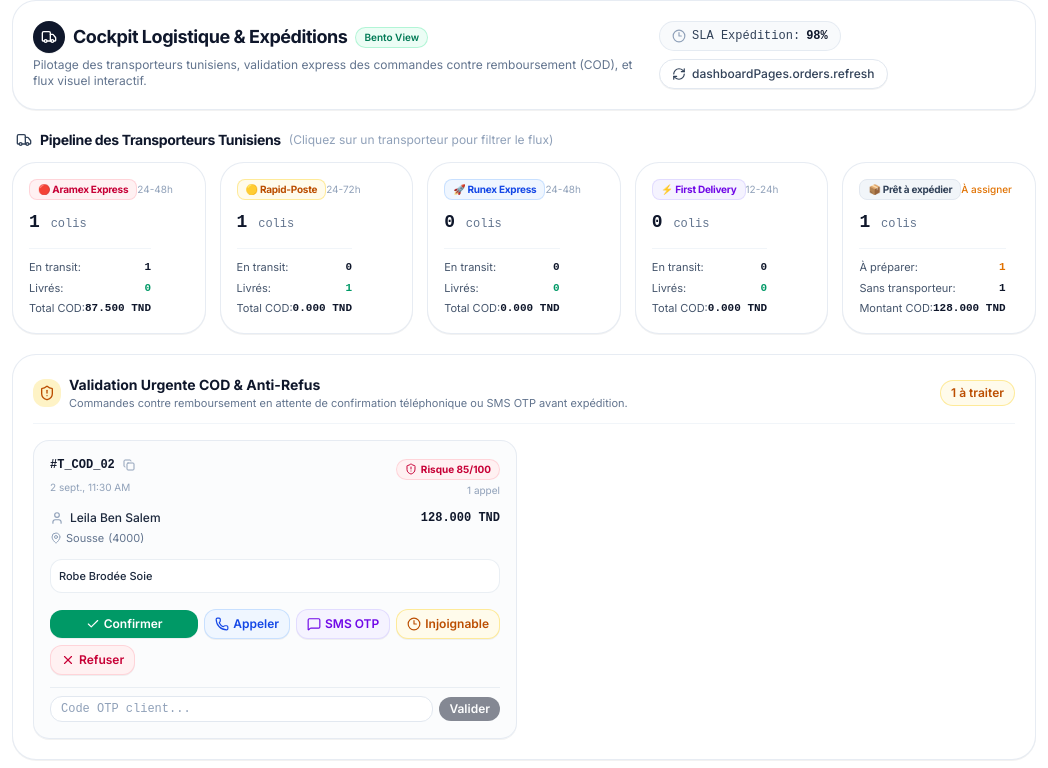
Test: OrdersBentoCockpit Component › filters the visual order stream when a courier card is clicked
This screenshot has width=1048, height=768.
Click on Aramex card
Click the button "Aramex Express": click(109, 248) [12, 162, 206, 334]
(page scrolled)
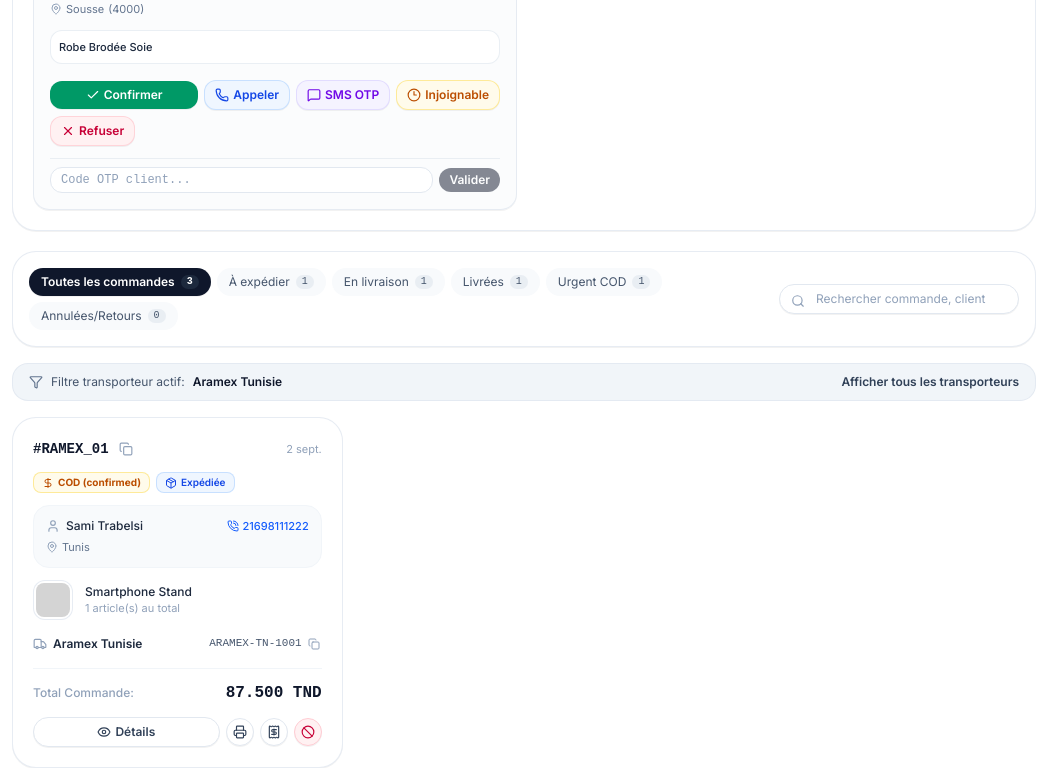
Expected: the text "Sami Trabelsi" is shown, [66, 518, 143, 534]
Expected: the text "Aramex Tunisie" next to "Filtre transporteur actif:" is shown, [193, 374, 282, 389]
Expected: the text "Aramex Tunisie" is shown 2 times, [193, 374, 282, 390]; [53, 636, 142, 652]
